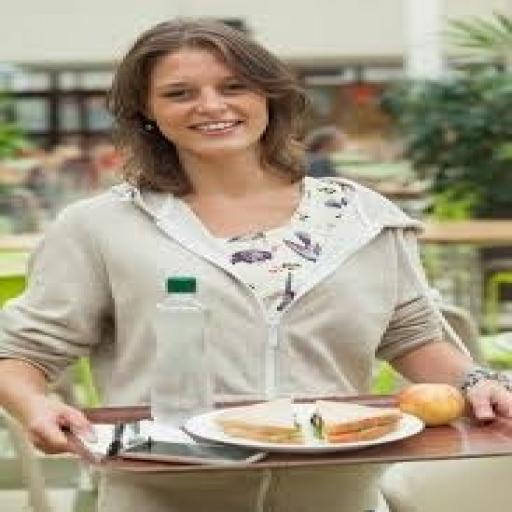eating: (0, 17, 509, 510)
